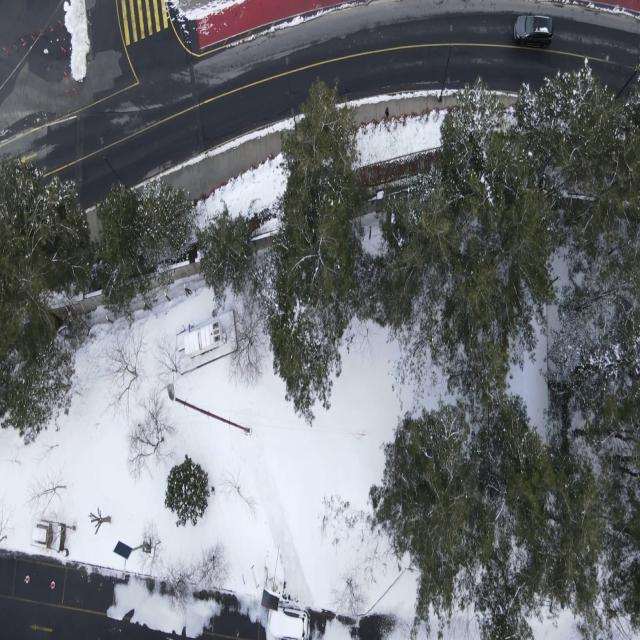p3rson: (384, 105, 390, 118)
